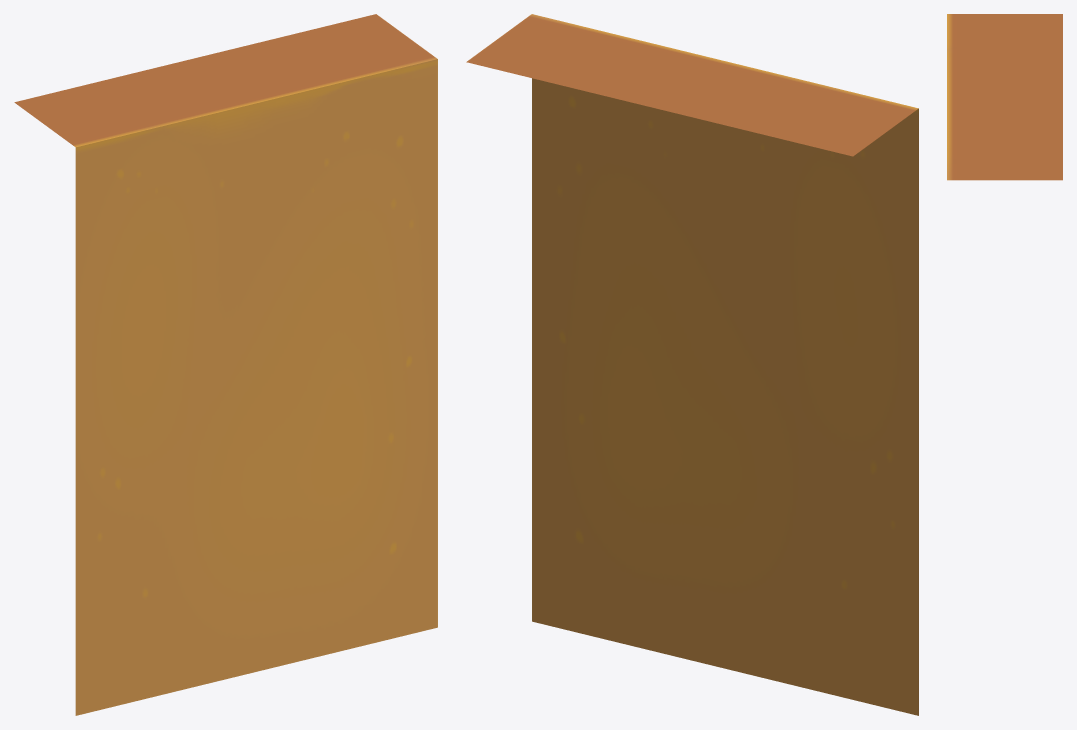
Rendered from desertWallMedium_MESH.fbx.
The picture shows the model from 3 angles, left to right: view 1: azimuth 30°, elevation 25°; view 2: azimuth 150°, elevation 25°; view 3: azimuth 270°, elevation 25°; orthographic projection. The views are drawn at different scales.
Parts seen in each view (by area): view 1: Desert_WallM; view 2: Desert_WallM; view 3: Desert_WallM.
Part boxes in pixels (box(x1,y1,x2,y2)): Desert_WallM: box(14, 14, 437, 715); Desert_WallM: box(466, 14, 918, 715); Desert_WallM: box(947, 14, 1062, 180).
Bounding box in the file's own units: 100 × 150 × 29.44.
